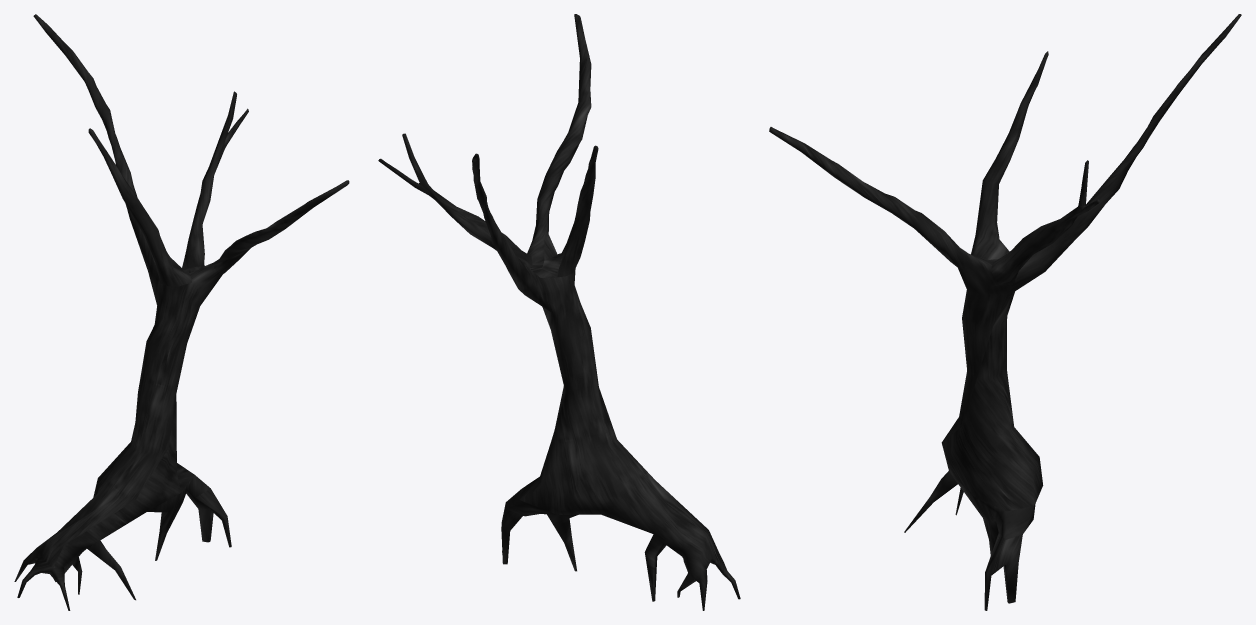
Rendered from SM_Tree_01.fbx.
3 renders of one model, left to right at view 1: azimuth 30°, elevation 25°; view 2: azimuth 150°, elevation 25°; view 3: azimuth 270°, elevation 25°, orthographic. The views are drawn at different scales.
Visible parts, largest first — view 1: Cube; view 2: Cube; view 3: Cube.
Part boxes in pixels (x1,y1,x2,y2): Cube: [14, 14, 349, 610]; Cube: [378, 14, 740, 610]; Cube: [769, 14, 1241, 610].
Bounding box in the file's own units: 134 × 214 × 167.
